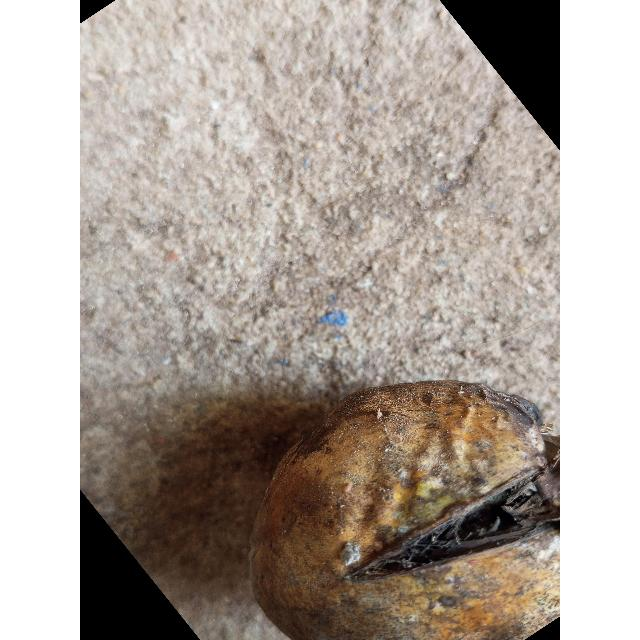damaged: (249, 381, 560, 640)
